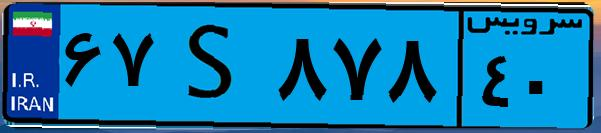0: (525, 38, 570, 115)
4: (475, 38, 525, 113)
6: (57, 26, 110, 100)
7: (330, 28, 385, 110), (110, 28, 158, 98)
8: (270, 28, 330, 110), (385, 28, 445, 110)
S: (158, 12, 270, 120)
